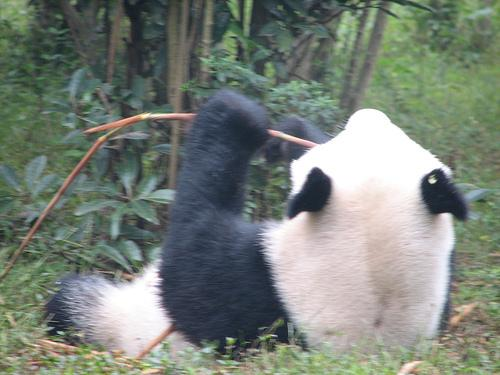panda: (48, 90, 466, 356)
